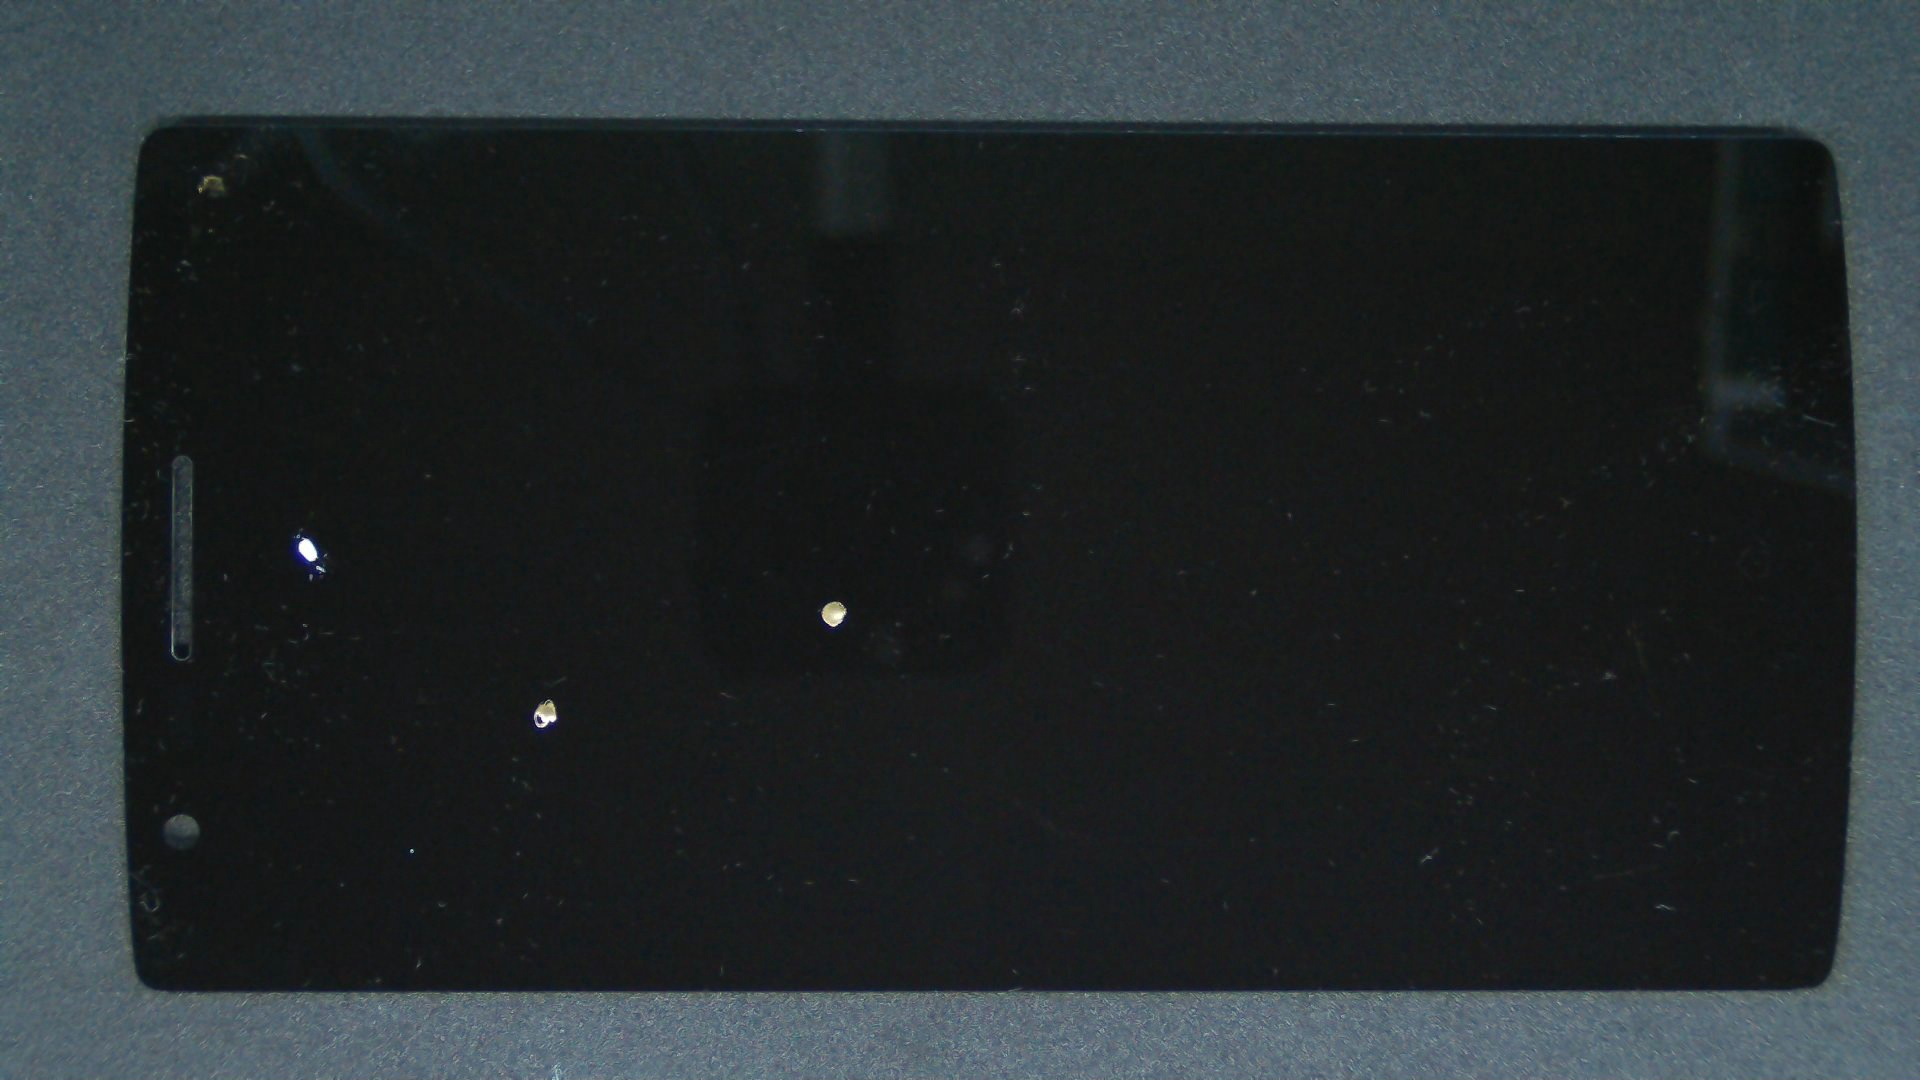oil: (415, 299, 1241, 901), (276, 348, 823, 1046), (152, 262, 454, 791)
